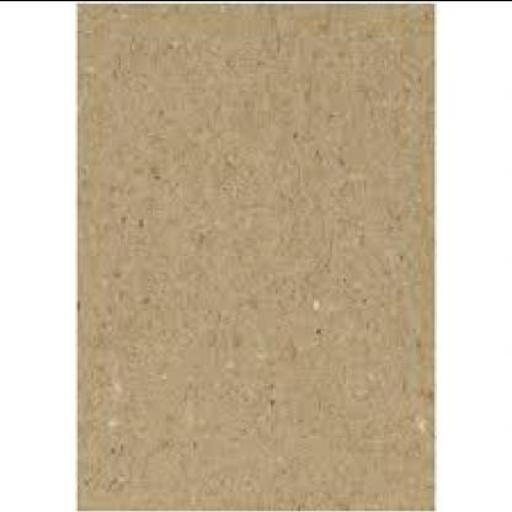cardboard: (82, 1, 440, 510)
